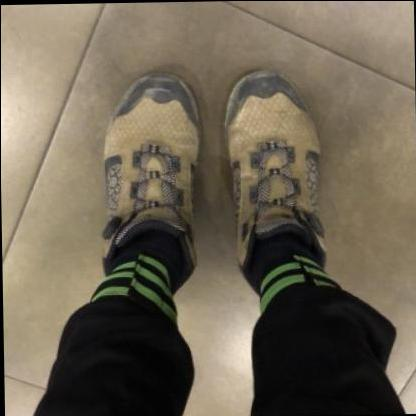safety-shoe: (206, 66, 336, 301), (78, 80, 205, 294)
